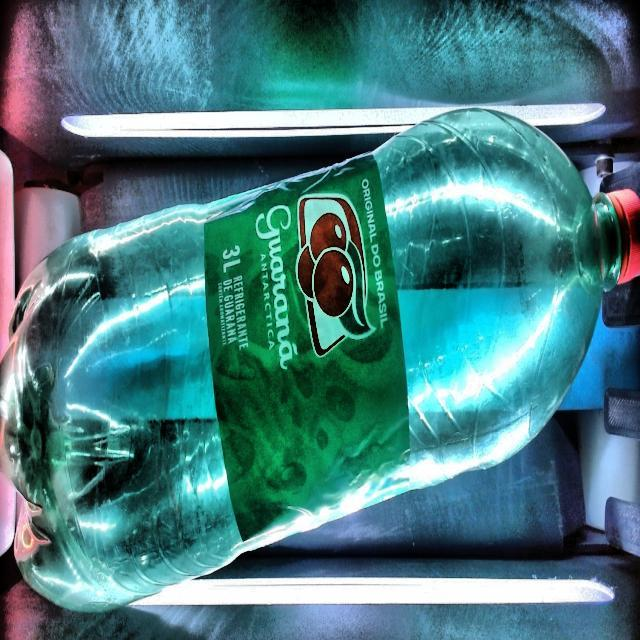bottom: (1, 234, 152, 619)
cap: (608, 189, 640, 284)
label: (204, 156, 410, 540)
neck: (375, 111, 622, 489)
